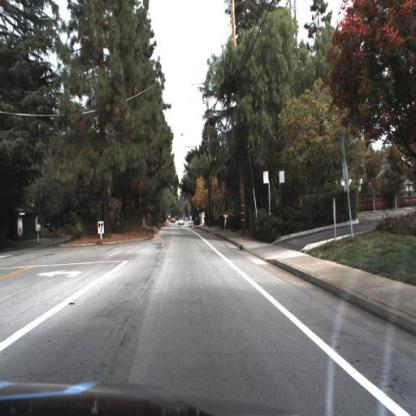car: (178, 212, 186, 228), (179, 215, 187, 228)
